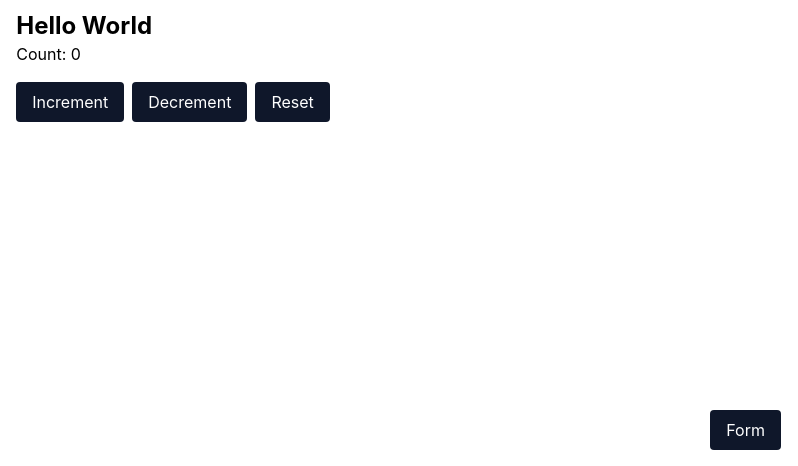
Test: Counter Component › Full count flow
Check: the heading "Count: 0" is shown, box [16, 44, 81, 64]
What coordinates should you click on to do the following:
click the button with test id "increment-button"
I would click on:
 (70, 102)
Its box is [16, 82, 124, 122].
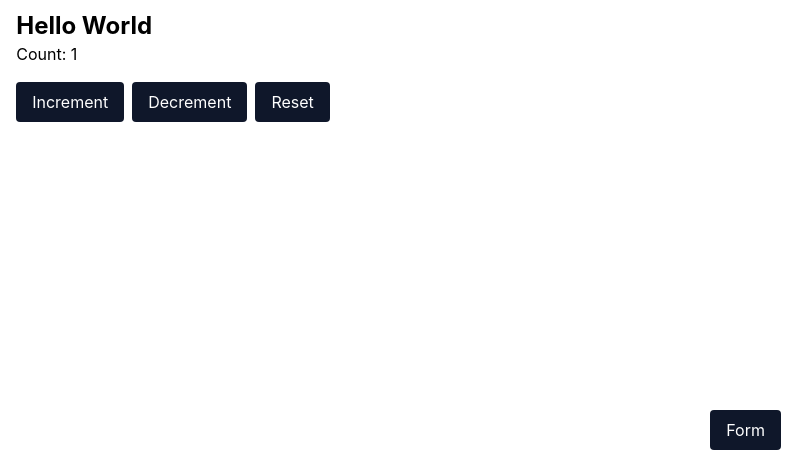
What coordinates should you click on to do the following:
click the button with test id "increment-button"
I would click on:
 (70, 102)
Its box is [16, 82, 124, 122].
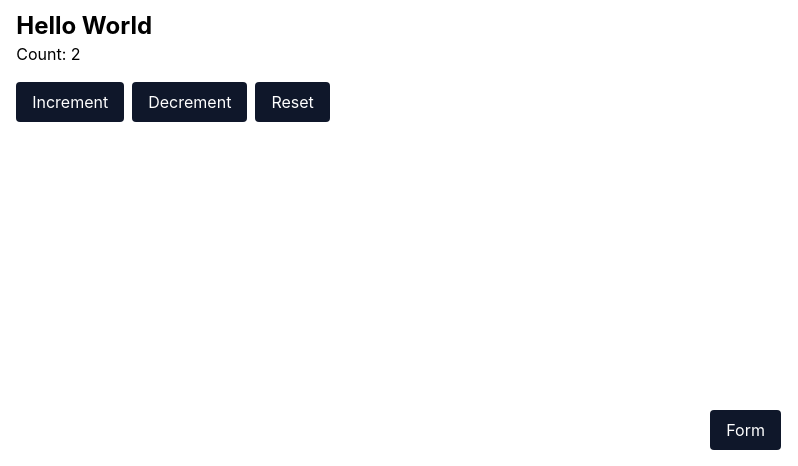
Check: the heading "Count: 2" is shown, box [16, 44, 80, 64]
What coordinates should you click on to do the following:
click the button with test id "decrement-button"
I would click on:
 (190, 102)
Its box is [132, 82, 247, 122].
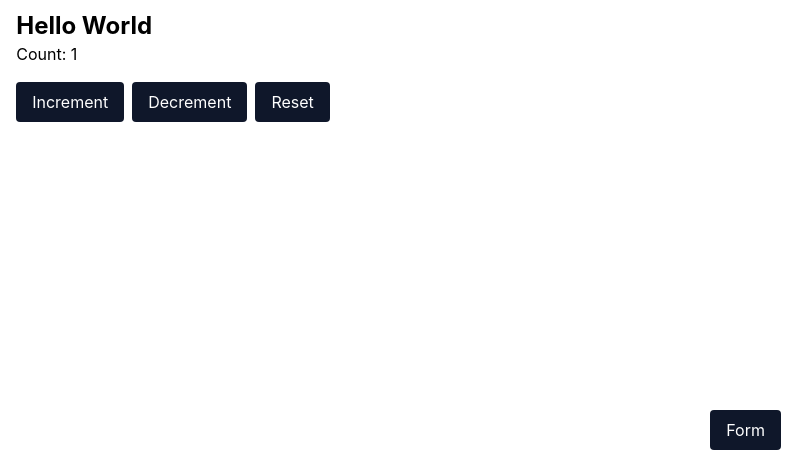
Check: the heading "Count: 1" is shown, box [16, 44, 77, 64]
What coordinates should you click on to do the following:
click the button with test id "reset-button"
I would click on:
 (292, 102)
Its box is [255, 82, 329, 122].
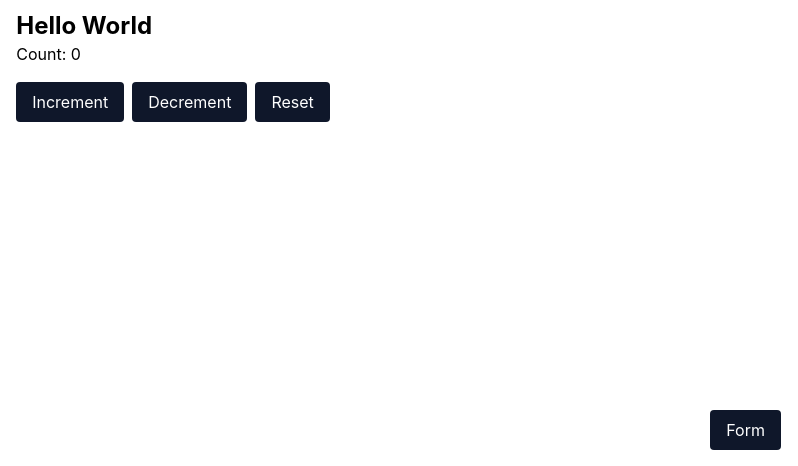
Check: the heading "Count: 0" is shown, box [16, 44, 81, 64]
